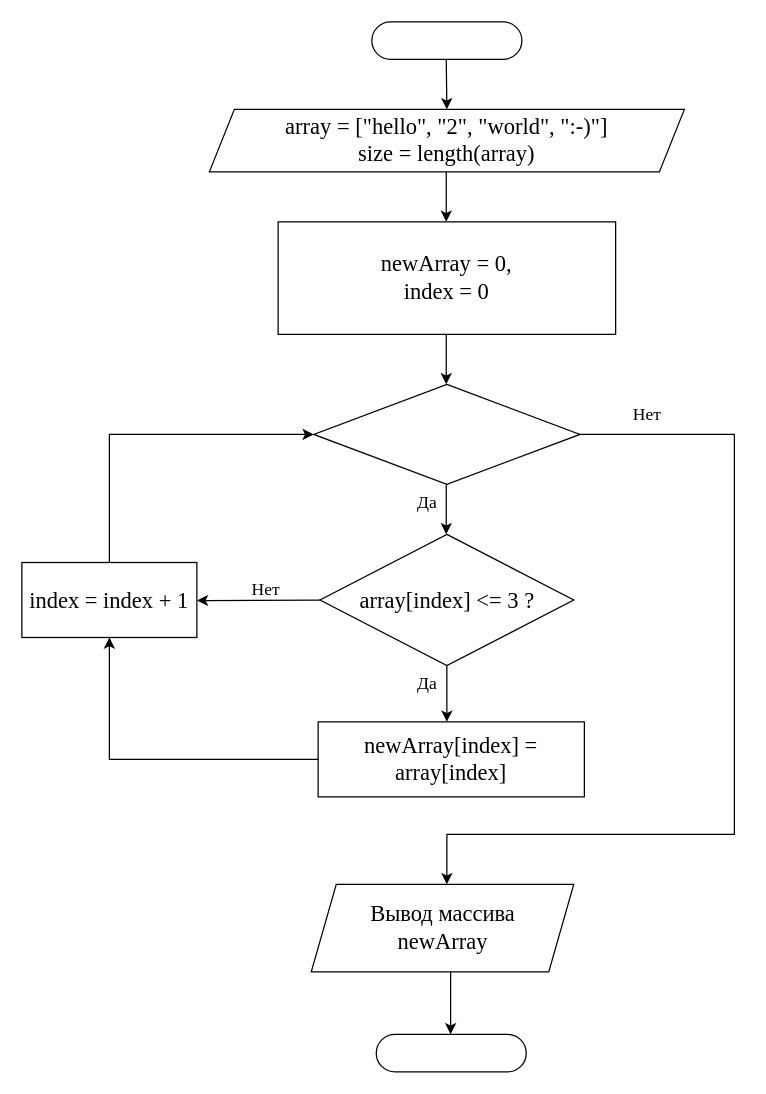
This 766x1094 diagram has some shape labels left out. The centre of each missing label's shape, as x and y in pixels:
"index <= size?" belongs at [446,433].
"Конец" belongs at [450,1052].
"Начало" belongs at [446,40].
